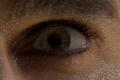eye: (42, 29, 71, 52)
